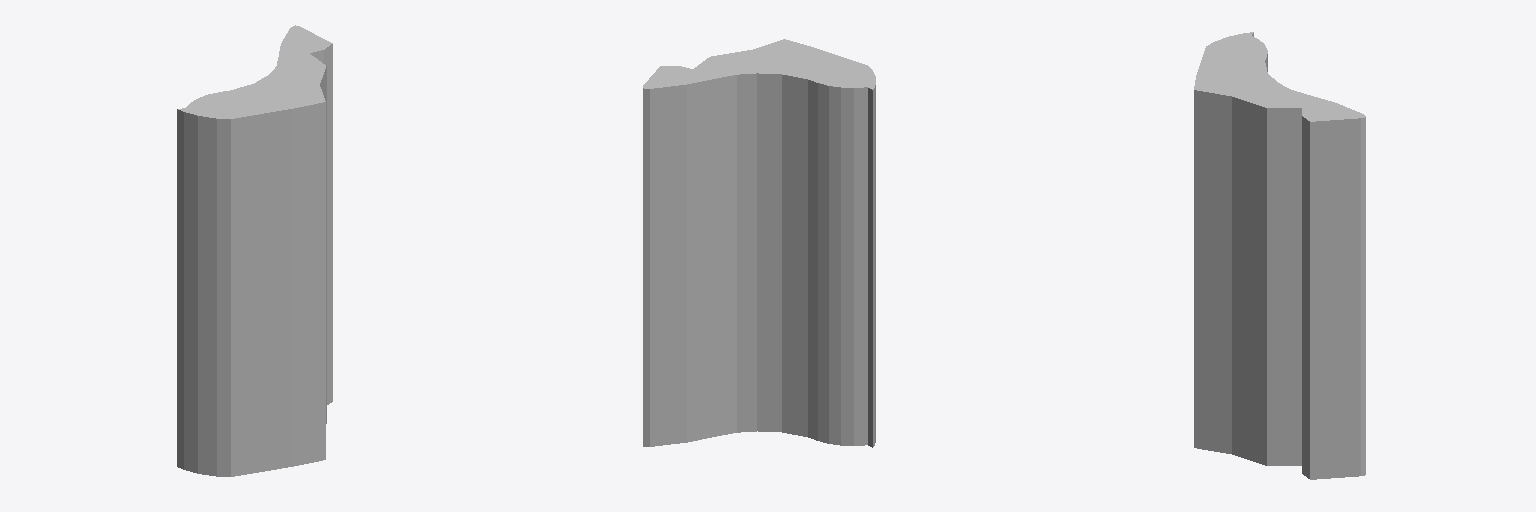
3 views of the same model, side by side, from view 1: azimuth 30°, elevation 25°; view 2: azimuth 150°, elevation 25°; view 3: azimuth 270°, elevation 25° (orthographic).
Visible parts, largest first — view 1: AE.002_CUCurve.1796; view 2: AE.002_CUCurve.1796; view 3: AE.002_CUCurve.1796.
Boxes of the visible parts, box(x1,y1,x2,y2) form: AE.002_CUCurve.1796: box(177, 25, 332, 476); AE.002_CUCurve.1796: box(643, 39, 875, 447); AE.002_CUCurve.1796: box(1194, 32, 1365, 479).
Bounding box in the file's own units: 0.0269 × 0.05 × 0.0218.